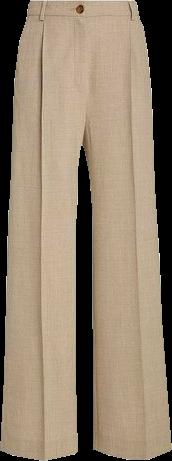Hemline: (92, 446, 171, 460), (0, 446, 77, 460)
Pantleg: (82, 0, 170, 459), (0, 0, 84, 459)
Waistline: (26, 11, 138, 19), (28, 0, 135, 5)
